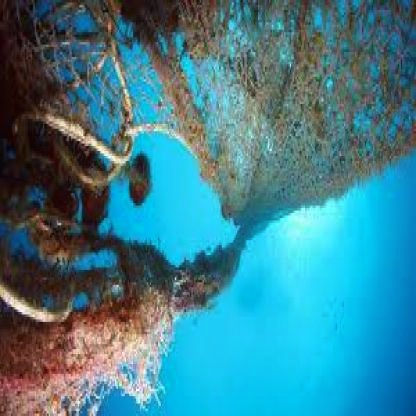net: (2, 3, 410, 408)
